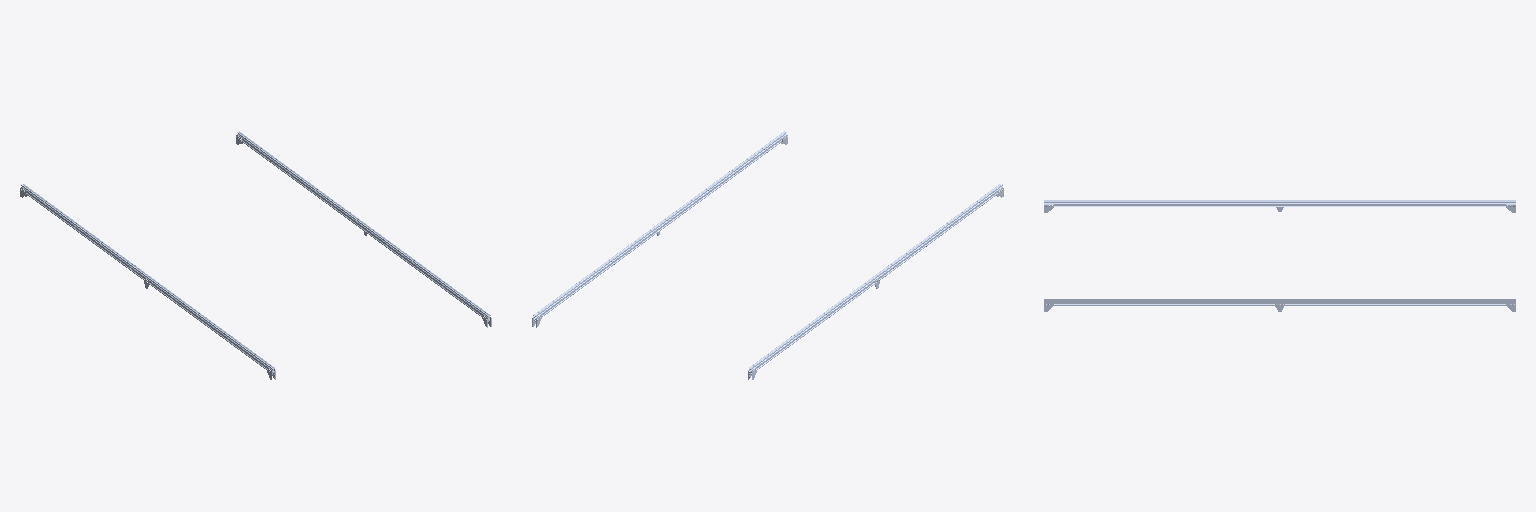
--- Facts derived from the render (not from the file) ---
Views: 3 orthographic renders of the robot side by side, from view 1: azimuth 30°, elevation 25°; view 2: azimuth 150°, elevation 25°; view 3: azimuth 270°, elevation 25°.
Model my-robot with 1 links and 0 joints (none), rooted at x_axis_tracks, posed all joints at 0.
Visible links, largest first — view 1: x_axis_tracks; view 2: x_axis_tracks; view 3: x_axis_tracks.
Boxes of the visible links, bbox=[...] form: x_axis_tracks: bbox=[20, 131, 491, 379]; x_axis_tracks: bbox=[532, 131, 1003, 379]; x_axis_tracks: bbox=[1044, 200, 1515, 311].
Size in the robot's own frame: 1.52 by 3 by 0.0795 metres.
Meshes: 5 distinct files referenced, 74 mesh visuals loaded (5 binary STL).

The robot description file, URDF, robot "my-robot":
<?xml version="1.0" ?>
<!-- Generated using onshape-to-robot -->
<!-- Onshape https://cad.onshape.com/documents/30d6379e78de76482470e7ee/w/e7b346f4bf0df2c360371a5c/e/263883c8752f9c1b548bfc82 -->
<robot name="my-robot">
  <!-- Link x_axis_tracks -->
  <link name="x_axis_tracks">
    <inertial>
      <origin xyz="0 0 0" rpy="0 0 0"/>
      <mass value="1e-09"/>
      <inertia ixx="1e-09" ixy="0" ixz="0" iyy="1e-09" iyz="0" izz="1e-09"/>
    </inertial>
    <!-- Part v_slot_20x40x1500_linear_rail -->
    <visual>
      <origin xyz="1.67553 -2.50292 1.41602" rpy="0 -0 0"/>
      <geometry>
        <mesh filename="package://meshes/v_slot_20x40x1500_linear_rail.stl"/>
      </geometry>
      <material name="v_slot_20x40x1500_linear_rail_material">
        <color rgba="0.866667 0.909804 1 1"/>
      </material>
    </visual>
    <collision>
      <origin xyz="1.67553 -2.50292 1.41602" rpy="0 -0 0"/>
      <geometry>
        <mesh filename="package://meshes/v_slot_20x40x1500_linear_rail.stl"/>
      </geometry>
    </collision>
    <!-- Part v_slot_20x40x1500_linear_rail_2 -->
    <visual>
      <origin xyz="0.190533 -1.00292 1.41602" rpy="0 -0 0"/>
      <geometry>
        <mesh filename="package://meshes/v_slot_20x40x1500_linear_rail.stl"/>
      </geometry>
      <material name="v_slot_20x40x1500_linear_rail_2_material">
        <color rgba="0.866667 0.909804 1 1"/>
      </material>
    </visual>
    <collision>
      <origin xyz="0.190533 -1.00292 1.41602" rpy="0 -0 0"/>
      <geometry>
        <mesh filename="package://meshes/v_slot_20x40x1500_linear_rail.stl"/>
      </geometry>
    </collision>
    <!-- Part v_slot_20x40x1500_linear_rail_3 -->
    <visual>
      <origin xyz="0.190533 -2.50292 1.41602" rpy="0 -0 0"/>
      <geometry>
        <mesh filename="package://meshes/v_slot_20x40x1500_linear_rail.stl"/>
      </geometry>
      <material name="v_slot_20x40x1500_linear_rail_3_material">
        <color rgba="0.866667 0.909804 1 1"/>
      </material>
    </visual>
    <collision>
      <origin xyz="0.190533 -2.50292 1.41602" rpy="0 -0 0"/>
      <geometry>
        <mesh filename="package://meshes/v_slot_20x40x1500_linear_rail.stl"/>
      </geometry>
    </collision>
    <!-- Part v_slot_20x40x1500_linear_rail_4 -->
    <visual>
      <origin xyz="1.67553 -1.00292 1.41602" rpy="0 -0 0"/>
      <geometry>
        <mesh filename="package://meshes/v_slot_20x40x1500_linear_rail.stl"/>
      </geometry>
      <material name="v_slot_20x40x1500_linear_rail_4_material">
        <color rgba="0.866667 0.909804 1 1"/>
      </material>
    </visual>
    <collision>
      <origin xyz="1.67553 -1.00292 1.41602" rpy="0 -0 0"/>
      <geometry>
        <mesh filename="package://meshes/v_slot_20x40x1500_linear_rail.stl"/>
      </geometry>
    </collision>
    <!-- Part joining_plate_t -->
    <visual>
      <origin xyz="1.68953 -2.50352 1.40652" rpy="-1.5708 -1.04744e-14 1.5708"/>
      <geometry>
        <mesh filename="package://meshes/joining_plate_t.stl"/>
      </geometry>
      <material name="joining_plate_t_material">
        <color rgba="0.866667 0.909804 1 1"/>
      </material>
    </visual>
    <collision>
      <origin xyz="1.68953 -2.50352 1.40652" rpy="-1.5708 -1.04744e-14 1.5708"/>
      <geometry>
        <mesh filename="package://meshes/joining_plate_t.stl"/>
      </geometry>
    </collision>
    <!-- Part joining_plate_t_2 -->
    <visual>
      <origin xyz="0.176533 -2.50295 1.40652" rpy="-1.5708 3.95846e-15 -1.5708"/>
      <geometry>
        <mesh filename="package://meshes/joining_plate_t.stl"/>
      </geometry>
      <material name="joining_plate_t_2_material">
        <color rgba="0.866667 0.909804 1 1"/>
      </material>
    </visual>
    <collision>
      <origin xyz="0.176533 -2.50295 1.40652" rpy="-1.5708 3.95846e-15 -1.5708"/>
      <geometry>
        <mesh filename="package://meshes/joining_plate_t.stl"/>
      </geometry>
    </collision>
    <!-- Part joining_plate_90_degree -->
    <visual>
      <origin xyz="0.180533 -1.01292 1.40652" rpy="-1.5708 -1.04744e-14 1.5708"/>
      <geometry>
        <mesh filename="package://meshes/joining_plate_90_degree.stl"/>
      </geometry>
      <material name="joining_plate_90_degree_material">
        <color rgba="0.866667 0.909804 1 1"/>
      </material>
    </visual>
    <collision>
      <origin xyz="0.180533 -1.01292 1.40652" rpy="-1.5708 -1.04744e-14 1.5708"/>
      <geometry>
        <mesh filename="package://meshes/joining_plate_90_degree.stl"/>
      </geometry>
    </collision>
    <!-- Part joining_plate_90_degree_2 -->
    <visual>
      <origin xyz="0.176533 -3.99292 1.40652" rpy="-1.5708 -1.04744e-14 -1.5708"/>
      <geometry>
        <mesh filename="package://meshes/joining_plate_90_degree.stl"/>
      </geometry>
      <material name="joining_plate_90_degree_2_material">
        <color rgba="0.866667 0.909804 1 1"/>
      </material>
    </visual>
    <collision>
      <origin xyz="0.176533 -3.99292 1.40652" rpy="-1.5708 -1.04744e-14 -1.5708"/>
      <geometry>
        <mesh filename="package://meshes/joining_plate_90_degree.stl"/>
      </geometry>
    </collision>
    <!-- Part joining_plate_90_degree_3 -->
    <visual>
      <origin xyz="1.66153 -3.99292 1.40652" rpy="-1.5708 -1.04744e-14 -1.5708"/>
      <geometry>
        <mesh filename="package://meshes/joining_plate_90_degree.stl"/>
      </geometry>
      <material name="joining_plate_90_degree_3_material">
        <color rgba="0.866667 0.909804 1 1"/>
      </material>
    </visual>
    <collision>
      <origin xyz="1.66153 -3.99292 1.40652" rpy="-1.5708 -1.04744e-14 -1.5708"/>
      <geometry>
        <mesh filename="package://meshes/joining_plate_90_degree.stl"/>
      </geometry>
    </collision>
    <!-- Part joining_plate_90_degree_4 -->
    <visual>
      <origin xyz="1.68953 -1.01292 1.40652" rpy="-1.5708 -1.04744e-14 1.5708"/>
      <geometry>
        <mesh filename="package://meshes/joining_plate_90_degree.stl"/>
      </geometry>
      <material name="joining_plate_90_degree_4_material">
        <color rgba="0.866667 0.909804 1 1"/>
      </material>
    </visual>
    <collision>
      <origin xyz="1.68953 -1.01292 1.40652" rpy="-1.5708 -1.04744e-14 1.5708"/>
      <geometry>
        <mesh filename="package://meshes/joining_plate_90_degree.stl"/>
      </geometry>
    </collision>
    <!-- Part joining_plate_90_degree_5 -->
    <visual>
      <origin xyz="1.66553 -1.01292 1.40652" rpy="-1.5708 -1.04744e-14 1.5708"/>
      <geometry>
        <mesh filename="package://meshes/joining_plate_90_degree.stl"/>
      </geometry>
      <material name="joining_plate_90_degree_5_material">
        <color rgba="0.866667 0.909804 1 1"/>
      </material>
    </visual>
    <collision>
      <origin xyz="1.66553 -1.01292 1.40652" rpy="-1.5708 -1.04744e-14 1.5708"/>
      <geometry>
        <mesh filename="package://meshes/joining_plate_90_degree.stl"/>
      </geometry>
    </collision>
    <!-- Part joining_plate_90_degree_6 -->
    <visual>
      <origin xyz="0.200533 -3.99292 1.40652" rpy="-1.5708 -1.04744e-14 -1.5708"/>
      <geometry>
        <mesh filename="package://meshes/joining_plate_90_degree.stl"/>
      </geometry>
      <material name="joining_plate_90_degree_6_material">
        <color rgba="0.866667 0.909804 1 1"/>
      </material>
    </visual>
    <collision>
      <origin xyz="0.200533 -3.99292 1.40652" rpy="-1.5708 -1.04744e-14 -1.5708"/>
      <geometry>
        <mesh filename="package://meshes/joining_plate_90_degree.stl"/>
      </geometry>
    </collision>
    <!-- Part joining_plate_90_degree_7 -->
    <visual>
      <origin xyz="0.204533 -1.01292 1.40652" rpy="-1.5708 -1.04744e-14 1.5708"/>
      <geometry>
        <mesh filename="package://meshes/joining_plate_90_degree.stl"/>
      </geometry>
      <material name="joining_plate_90_degree_7_material">
        <color rgba="0.866667 0.909804 1 1"/>
      </material>
    </visual>
    <collision>
      <origin xyz="0.204533 -1.01292 1.40652" rpy="-1.5708 -1.04744e-14 1.5708"/>
      <geometry>
        <mesh filename="package://meshes/joining_plate_90_degree.stl"/>
      </geometry>
    </collision>
    <!-- Part joining_plate_90_degree_8 -->
    <visual>
      <origin xyz="1.68553 -3.99292 1.40652" rpy="-1.5708 -1.04744e-14 -1.5708"/>
      <geometry>
        <mesh filename="package://meshes/joining_plate_90_degree.stl"/>
      </geometry>
      <material name="joining_plate_90_degree_8_material">
        <color rgba="0.866667 0.909804 1 1"/>
      </material>
    </visual>
    <collision>
      <origin xyz="1.68553 -3.99292 1.40652" rpy="-1.5708 -1.04744e-14 -1.5708"/>
      <geometry>
        <mesh filename="package://meshes/joining_plate_90_degree.stl"/>
      </geometry>
    </collision>
    <!-- Part m5_tee_nut -->
    <visual>
      <origin xyz="1.68023 -2.50352 1.40652" rpy="-1.5708 1.5708 0"/>
      <geometry>
        <mesh filename="package://meshes/m5_tee_nut.stl"/>
      </geometry>
      <material name="m5_tee_nut_material">
        <color rgba="0.792157 0.819608 0.933333 1"/>
      </material>
    </visual>
    <collision>
      <origin xyz="1.68023 -2.50352 1.40652" rpy="-1.5708 1.5708 0"/>
      <geometry>
        <mesh filename="package://meshes/m5_tee_nut.stl"/>
      </geometry>
    </collision>
    <!-- Part m5_x_10mm_screw -->
    <visual>
      <origin xyz="1.68953 -2.50352 1.40652" rpy="-1.5708 1.5708 0"/>
      <geometry>
        <mesh filename="package://meshes/m5_x_10mm_screw.stl"/>
      </geometry>
      <material name="m5_x_10mm_screw_material">
        <color rgba="0.945098 0.94902 0.952941 1"/>
      </material>
    </visual>
    <collision>
      <origin xyz="1.68953 -2.50352 1.40652" rpy="-1.5708 1.5708 0"/>
      <geometry>
        <mesh filename="package://meshes/m5_x_10mm_screw.stl"/>
      </geometry>
    </collision>
    <!-- Part m5_tee_nut_2 -->
    <visual>
      <origin xyz="1.68023 -2.48352 1.40652" rpy="-1.5708 1.5708 0"/>
      <geometry>
        <mesh filename="package://meshes/m5_tee_nut.stl"/>
      </geometry>
      <material name="m5_tee_nut_2_material">
        <color rgba="0.792157 0.819608 0.933333 1"/>
      </material>
    </visual>
    <collision>
      <origin xyz="1.68023 -2.48352 1.40652" rpy="-1.5708 1.5708 0"/>
      <geometry>
        <mesh filename="package://meshes/m5_tee_nut.stl"/>
      </geometry>
    </collision>
    <!-- Part m5_x_10mm_screw_2 -->
    <visual>
      <origin xyz="1.68953 -2.48352 1.40652" rpy="-1.5708 1.5708 0"/>
      <geometry>
        <mesh filename="package://meshes/m5_x_10mm_screw.stl"/>
      </geometry>
      <material name="m5_x_10mm_screw_2_material">
        <color rgba="0.945098 0.94902 0.952941 1"/>
      </material>
    </visual>
    <collision>
      <origin xyz="1.68953 -2.48352 1.40652" rpy="-1.5708 1.5708 0"/>
      <geometry>
        <mesh filename="package://meshes/m5_x_10mm_screw.stl"/>
      </geometry>
    </collision>
    <!-- Part m5_tee_nut_3 -->
    <visual>
      <origin xyz="1.68023 -2.52352 1.40652" rpy="-1.5708 1.5708 0"/>
      <geometry>
        <mesh filename="package://meshes/m5_tee_nut.stl"/>
      </geometry>
      <material name="m5_tee_nut_3_material">
        <color rgba="0.792157 0.819608 0.933333 1"/>
      </material>
    </visual>
    <collision>
      <origin xyz="1.68023 -2.52352 1.40652" rpy="-1.5708 1.5708 0"/>
      <geometry>
        <mesh filename="package://meshes/m5_tee_nut.stl"/>
      </geometry>
    </collision>
    <!-- Part m5_x_10mm_screw_3 -->
    <visual>
      <origin xyz="1.68953 -2.52352 1.40652" rpy="-1.5708 1.5708 0"/>
      <geometry>
        <mesh filename="package://meshes/m5_x_10mm_screw.stl"/>
      </geometry>
      <material name="m5_x_10mm_screw_3_material">
        <color rgba="0.945098 0.94902 0.952941 1"/>
      </material>
    </visual>
    <collision>
      <origin xyz="1.68953 -2.52352 1.40652" rpy="-1.5708 1.5708 0"/>
      <geometry>
        <mesh filename="package://meshes/m5_x_10mm_screw.stl"/>
      </geometry>
    </collision>
    <!-- Part m5_tee_nut_4 -->
    <visual>
      <origin xyz="0.185833 -2.50295 1.40652" rpy="1.5708 1.5708 0"/>
      <geometry>
        <mesh filename="package://meshes/m5_tee_nut.stl"/>
      </geometry>
      <material name="m5_tee_nut_4_material">
        <color rgba="0.792157 0.819608 0.933333 1"/>
      </material>
    </visual>
    <collision>
      <origin xyz="0.185833 -2.50295 1.40652" rpy="1.5708 1.5708 0"/>
      <geometry>
        <mesh filename="package://meshes/m5_tee_nut.stl"/>
      </geometry>
    </collision>
    <!-- Part m5_x_10mm_screw_4 -->
    <visual>
      <origin xyz="0.176533 -2.50295 1.40652" rpy="1.5708 1.5708 0"/>
      <geometry>
        <mesh filename="package://meshes/m5_x_10mm_screw.stl"/>
      </geometry>
      <material name="m5_x_10mm_screw_4_material">
        <color rgba="0.945098 0.94902 0.952941 1"/>
      </material>
    </visual>
    <collision>
      <origin xyz="0.176533 -2.50295 1.40652" rpy="1.5708 1.5708 0"/>
      <geometry>
        <mesh filename="package://meshes/m5_x_10mm_screw.stl"/>
      </geometry>
    </collision>
    <!-- Part m5_tee_nut_5 -->
    <visual>
      <origin xyz="0.185833 -2.52295 1.40652" rpy="1.5708 1.5708 0"/>
      <geometry>
        <mesh filename="package://meshes/m5_tee_nut.stl"/>
      </geometry>
      <material name="m5_tee_nut_5_material">
        <color rgba="0.792157 0.819608 0.933333 1"/>
      </material>
    </visual>
    <collision>
      <origin xyz="0.185833 -2.52295 1.40652" rpy="1.5708 1.5708 0"/>
      <geometry>
        <mesh filename="package://meshes/m5_tee_nut.stl"/>
      </geometry>
    </collision>
    <!-- Part m5_x_10mm_screw_5 -->
    <visual>
      <origin xyz="0.176533 -2.52295 1.40652" rpy="1.5708 1.5708 0"/>
      <geometry>
        <mesh filename="package://meshes/m5_x_10mm_screw.stl"/>
      </geometry>
      <material name="m5_x_10mm_screw_5_material">
        <color rgba="0.945098 0.94902 0.952941 1"/>
      </material>
    </visual>
    <collision>
      <origin xyz="0.176533 -2.52295 1.40652" rpy="1.5708 1.5708 0"/>
      <geometry>
        <mesh filename="package://meshes/m5_x_10mm_screw.stl"/>
      </geometry>
    </collision>
    <!-- Part m5_tee_nut_6 -->
    <visual>
      <origin xyz="0.185833 -2.48295 1.40652" rpy="1.5708 1.5708 0"/>
      <geometry>
        <mesh filename="package://meshes/m5_tee_nut.stl"/>
      </geometry>
      <material name="m5_tee_nut_6_material">
        <color rgba="0.792157 0.819608 0.933333 1"/>
      </material>
    </visual>
    <collision>
      <origin xyz="0.185833 -2.48295 1.40652" rpy="1.5708 1.5708 0"/>
      <geometry>
        <mesh filename="package://meshes/m5_tee_nut.stl"/>
      </geometry>
    </collision>
    <!-- Part m5_x_10mm_screw_6 -->
    <visual>
      <origin xyz="0.176533 -2.48295 1.40652" rpy="1.5708 1.5708 0"/>
      <geometry>
        <mesh filename="package://meshes/m5_x_10mm_screw.stl"/>
      </geometry>
      <material name="m5_x_10mm_screw_6_material">
        <color rgba="0.945098 0.94902 0.952941 1"/>
      </material>
    </visual>
    <collision>
      <origin xyz="0.176533 -2.48295 1.40652" rpy="1.5708 1.5708 0"/>
      <geometry>
        <mesh filename="package://meshes/m5_x_10mm_screw.stl"/>
      </geometry>
    </collision>
    <!-- Part m5_tee_nut_7 -->
    <visual>
      <origin xyz="0.185833 -1.03292 1.40652" rpy="3.14159 -5.12212e-15 1.5708"/>
      <geometry>
        <mesh filename="package://meshes/m5_tee_nut.stl"/>
      </geometry>
      <material name="m5_tee_nut_7_material">
        <color rgba="0.792157 0.819608 0.933333 1"/>
      </material>
    </visual>
    <collision>
      <origin xyz="0.185833 -1.03292 1.40652" rpy="3.14159 -5.12212e-15 1.5708"/>
      <geometry>
        <mesh filename="package://meshes/m5_tee_nut.stl"/>
      </geometry>
    </collision>
    <!-- Part m5_x_10mm_screw_7 -->
    <visual>
      <origin xyz="0.176533 -1.03292 1.40652" rpy="3.14159 -4.67109e-15 1.5708"/>
      <geometry>
        <mesh filename="package://meshes/m5_x_10mm_screw.stl"/>
      </geometry>
      <material name="m5_x_10mm_screw_7_material">
        <color rgba="0.945098 0.94902 0.952941 1"/>
      </material>
    </visual>
    <collision>
      <origin xyz="0.176533 -1.03292 1.40652" rpy="3.14159 -4.67109e-15 1.5708"/>
      <geometry>
        <mesh filename="package://meshes/m5_x_10mm_screw.stl"/>
      </geometry>
    </collision>
    <!-- Part m5_tee_nut_8 -->
    <visual>
      <origin xyz="0.185833 -1.05292 1.40652" rpy="3.14159 -5.12212e-15 1.5708"/>
      <geometry>
        <mesh filename="package://meshes/m5_tee_nut.stl"/>
      </geometry>
      <material name="m5_tee_nut_8_material">
        <color rgba="0.792157 0.819608 0.933333 1"/>
      </material>
    </visual>
    <collision>
      <origin xyz="0.185833 -1.05292 1.40652" rpy="3.14159 -5.12212e-15 1.5708"/>
      <geometry>
        <mesh filename="package://meshes/m5_tee_nut.stl"/>
      </geometry>
    </collision>
    <!-- Part m5_x_10mm_screw_8 -->
    <visual>
      <origin xyz="0.176533 -1.05292 1.40652" rpy="3.14159 -4.67109e-15 1.5708"/>
      <geometry>
        <mesh filename="package://meshes/m5_x_10mm_screw.stl"/>
      </geometry>
      <material name="m5_x_10mm_screw_8_material">
        <color rgba="0.945098 0.94902 0.952941 1"/>
      </material>
    </visual>
    <collision>
      <origin xyz="0.176533 -1.05292 1.40652" rpy="3.14159 -4.67109e-15 1.5708"/>
      <geometry>
        <mesh filename="package://meshes/m5_x_10mm_screw.stl"/>
      </geometry>
    </collision>
    <!-- Part m5_tee_nut_9 -->
    <visual>
      <origin xyz="0.185833 -1.01292 1.40652" rpy="3.14159 -5.12212e-15 1.5708"/>
      <geometry>
        <mesh filename="package://meshes/m5_tee_nut.stl"/>
      </geometry>
      <material name="m5_tee_nut_9_material">
        <color rgba="0.792157 0.819608 0.933333 1"/>
      </material>
    </visual>
    <collision>
      <origin xyz="0.185833 -1.01292 1.40652" rpy="3.14159 -5.12212e-15 1.5708"/>
      <geometry>
        <mesh filename="package://meshes/m5_tee_nut.stl"/>
      </geometry>
    </collision>
    <!-- Part m5_x_10mm_screw_9 -->
    <visual>
      <origin xyz="0.176533 -1.01292 1.40652" rpy="3.14159 -4.67109e-15 1.5708"/>
      <geometry>
        <mesh filename="package://meshes/m5_x_10mm_screw.stl"/>
      </geometry>
      <material name="m5_x_10mm_screw_9_material">
        <color rgba="0.945098 0.94902 0.952941 1"/>
      </material>
    </visual>
    <collision>
      <origin xyz="0.176533 -1.01292 1.40652" rpy="3.14159 -4.67109e-15 1.5708"/>
      <geometry>
        <mesh filename="package://meshes/m5_x_10mm_screw.stl"/>
      </geometry>
    </collision>
    <!-- Part m5_tee_nut_10 -->
    <visual>
      <origin xyz="0.185833 -3.99292 1.40652" rpy="3.14159 -5.12212e-15 1.5708"/>
      <geometry>
        <mesh filename="package://meshes/m5_tee_nut.stl"/>
      </geometry>
      <material name="m5_tee_nut_10_material">
        <color rgba="0.792157 0.819608 0.933333 1"/>
      </material>
    </visual>
    <collision>
      <origin xyz="0.185833 -3.99292 1.40652" rpy="3.14159 -5.12212e-15 1.5708"/>
      <geometry>
        <mesh filename="package://meshes/m5_tee_nut.stl"/>
      </geometry>
    </collision>
    <!-- Part m5_x_10mm_screw_10 -->
    <visual>
      <origin xyz="0.176533 -3.99292 1.40652" rpy="3.14159 -4.67109e-15 1.5708"/>
      <geometry>
        <mesh filename="package://meshes/m5_x_10mm_screw.stl"/>
      </geometry>
      <material name="m5_x_10mm_screw_10_material">
        <color rgba="0.945098 0.94902 0.952941 1"/>
      </material>
    </visual>
    <collision>
      <origin xyz="0.176533 -3.99292 1.40652" rpy="3.14159 -4.67109e-15 1.5708"/>
      <geometry>
        <mesh filename="package://meshes/m5_x_10mm_screw.stl"/>
      </geometry>
    </collision>
    <!-- Part m5_tee_nut_11 -->
    <visual>
      <origin xyz="0.185833 -3.95292 1.40652" rpy="3.14159 -5.12212e-15 1.5708"/>
      <geometry>
        <mesh filename="package://meshes/m5_tee_nut.stl"/>
      </geometry>
      <material name="m5_tee_nut_11_material">
        <color rgba="0.792157 0.819608 0.933333 1"/>
      </material>
    </visual>
    <collision>
      <origin xyz="0.185833 -3.95292 1.40652" rpy="3.14159 -5.12212e-15 1.5708"/>
      <geometry>
        <mesh filename="package://meshes/m5_tee_nut.stl"/>
      </geometry>
    </collision>
    <!-- Part m5_x_10mm_screw_11 -->
    <visual>
      <origin xyz="0.176533 -3.95292 1.40652" rpy="3.14159 -4.67109e-15 1.5708"/>
      <geometry>
        <mesh filename="package://meshes/m5_x_10mm_screw.stl"/>
      </geometry>
      <material name="m5_x_10mm_screw_11_material">
        <color rgba="0.945098 0.94902 0.952941 1"/>
      </material>
    </visual>
    <collision>
      <origin xyz="0.176533 -3.95292 1.40652" rpy="3.14159 -4.67109e-15 1.5708"/>
      <geometry>
        <mesh filename="package://meshes/m5_x_10mm_screw.stl"/>
      </geometry>
    </collision>
    <!-- Part m5_tee_nut_12 -->
    <visual>
      <origin xyz="0.185833 -3.97292 1.40652" rpy="3.14159 -5.12212e-15 1.5708"/>
      <geometry>
        <mesh filename="package://meshes/m5_tee_nut.stl"/>
      </geometry>
      <material name="m5_tee_nut_12_material">
        <color rgba="0.792157 0.819608 0.933333 1"/>
      </material>
    </visual>
    <collision>
      <origin xyz="0.185833 -3.97292 1.40652" rpy="3.14159 -5.12212e-15 1.5708"/>
      <geometry>
        <mesh filename="package://meshes/m5_tee_nut.stl"/>
      </geometry>
    </collision>
    <!-- Part m5_x_10mm_screw_12 -->
    <visual>
      <origin xyz="0.176533 -3.97292 1.40652" rpy="3.14159 -4.67109e-15 1.5708"/>
      <geometry>
        <mesh filename="package://meshes/m5_x_10mm_screw.stl"/>
      </geometry>
      <material name="m5_x_10mm_screw_12_material">
        <color rgba="0.945098 0.94902 0.952941 1"/>
      </material>
    </visual>
    <collision>
      <origin xyz="0.176533 -3.97292 1.40652" rpy="3.14159 -4.67109e-15 1.5708"/>
      <geometry>
        <mesh filename="package://meshes/m5_x_10mm_screw.stl"/>
      </geometry>
    </collision>
    <!-- Part m5_tee_nut_13 -->
    <visual>
      <origin xyz="1.67083 -3.99292 1.40652" rpy="3.14159 -5.12212e-15 1.5708"/>
      <geometry>
        <mesh filename="package://meshes/m5_tee_nut.stl"/>
      </geometry>
      <material name="m5_tee_nut_13_material">
        <color rgba="0.792157 0.819608 0.933333 1"/>
      </material>
    </visual>
    <collision>
      <origin xyz="1.67083 -3.99292 1.40652" rpy="3.14159 -5.12212e-15 1.5708"/>
      <geometry>
        <mesh filename="package://meshes/m5_tee_nut.stl"/>
      </geometry>
    </collision>
    <!-- Part m5_x_10mm_screw_13 -->
    <visual>
      <origin xyz="1.66153 -3.99292 1.40652" rpy="3.14159 -4.67109e-15 1.5708"/>
      <geometry>
        <mesh filename="package://meshes/m5_x_10mm_screw.stl"/>
      </geometry>
      <material name="m5_x_10mm_screw_13_material">
        <color rgba="0.945098 0.94902 0.952941 1"/>
      </material>
    </visual>
    <collision>
      <origin xyz="1.66153 -3.99292 1.40652" rpy="3.14159 -4.67109e-15 1.5708"/>
      <geometry>
        <mesh filename="package://meshes/m5_x_10mm_screw.stl"/>
      </geometry>
    </collision>
    <!-- Part m5_tee_nut_14 -->
    <visual>
      <origin xyz="1.67083 -3.95292 1.40652" rpy="3.14159 -5.12212e-15 1.5708"/>
      <geometry>
        <mesh filename="package://meshes/m5_tee_nut.stl"/>
      </geometry>
      <material name="m5_tee_nut_14_material">
        <color rgba="0.792157 0.819608 0.933333 1"/>
      </material>
    </visual>
    <collision>
      <origin xyz="1.67083 -3.95292 1.40652" rpy="3.14159 -5.12212e-15 1.5708"/>
      <geometry>
        <mesh filename="package://meshes/m5_tee_nut.stl"/>
      </geometry>
    </collision>
    <!-- Part m5_x_10mm_screw_14 -->
    <visual>
      <origin xyz="1.66153 -3.95292 1.40652" rpy="3.14159 -4.67109e-15 1.5708"/>
      <geometry>
        <mesh filename="package://meshes/m5_x_10mm_screw.stl"/>
      </geometry>
      <material name="m5_x_10mm_screw_14_material">
        <color rgba="0.945098 0.94902 0.952941 1"/>
      </material>
    </visual>
    <collision>
      <origin xyz="1.66153 -3.95292 1.40652" rpy="3.14159 -4.67109e-15 1.5708"/>
      <geometry>
        <mesh filename="package://meshes/m5_x_10mm_screw.stl"/>
      </geometry>
    </collision>
    <!-- Part m5_tee_nut_15 -->
    <visual>
      <origin xyz="1.67083 -3.97292 1.40652" rpy="3.14159 -5.12212e-15 1.5708"/>
      <geometry>
        <mesh filename="package://meshes/m5_tee_nut.stl"/>
      </geometry>
      <material name="m5_tee_nut_15_material">
        <color rgba="0.792157 0.819608 0.933333 1"/>
      </material>
    </visual>
    <collision>
      <origin xyz="1.67083 -3.97292 1.40652" rpy="3.14159 -5.12212e-15 1.5708"/>
      <geometry>
        <mesh filename="package://meshes/m5_tee_nut.stl"/>
      </geometry>
    </collision>
    <!-- Part m5_x_10mm_screw_15 -->
    <visual>
      <origin xyz="1.66153 -3.97292 1.40652" rpy="3.14159 -4.67109e-15 1.5708"/>
      <geometry>
        <mesh filename="package://meshes/m5_x_10mm_screw.stl"/>
      </geometry>
      <material name="m5_x_10mm_screw_15_material">
        <color rgba="0.945098 0.94902 0.952941 1"/>
      </material>
    </visual>
    <collision>
      <origin xyz="1.66153 -3.97292 1.40652" rpy="3.14159 -4.67109e-15 1.5708"/>
      <geometry>
        <mesh filename="package://meshes/m5_x_10mm_screw.stl"/>
      </geometry>
    </collision>
    <!-- Part m5_tee_nut_16 -->
    <visual>
      <origin xyz="1.68023 -1.01292 1.40652" rpy="3.14159 -5.12212e-15 -1.5708"/>
      <geometry>
        <mesh filename="package://meshes/m5_tee_nut.stl"/>
      </geometry>
      <material name="m5_tee_nut_16_material">
        <color rgba="0.792157 0.819608 0.933333 1"/>
      </material>
    </visual>
    <collision>
      <origin xyz="1.68023 -1.01292 1.40652" rpy="3.14159 -5.12212e-15 -1.5708"/>
      <geometry>
        <mesh filename="package://meshes/m5_tee_nut.stl"/>
      </geometry>
    </collision>
    <!-- Part m5_x_10mm_screw_16 -->
    <visual>
      <origin xyz="1.68953 -1.01292 1.40652" rpy="3.14159 -4.67109e-15 -1.5708"/>
      <geometry>
        <mesh filename="package://meshes/m5_x_10mm_screw.stl"/>
      </geometry>
      <material name="m5_x_10mm_screw_16_material">
        <color rgba="0.945098 0.94902 0.952941 1"/>
      </material>
    </visual>
    <collision>
      <origin xyz="1.68953 -1.01292 1.40652" rpy="3.14159 -4.67109e-15 -1.5708"/>
      <geometry>
        <mesh filename="package://meshes/m5_x_10mm_screw.stl"/>
      </geometry>
    </collision>
    <!-- Part m5_tee_nut_17 -->
    <visual>
      <origin xyz="1.68023 -1.05292 1.40652" rpy="3.14159 -5.12212e-15 -1.5708"/>
      <geometry>
        <mesh filename="package://meshes/m5_tee_nut.stl"/>
      </geometry>
      <material name="m5_tee_nut_17_material">
        <color rgba="0.792157 0.819608 0.933333 1"/>
      </material>
    </visual>
    <collision>
      <origin xyz="1.68023 -1.05292 1.40652" rpy="3.14159 -5.12212e-15 -1.5708"/>
      <geometry>
        <mesh filename="package://meshes/m5_tee_nut.stl"/>
      </geometry>
    </collision>
    <!-- Part m5_x_10mm_screw_17 -->
    <visual>
      <origin xyz="1.68953 -1.05292 1.40652" rpy="3.14159 -4.67109e-15 -1.5708"/>
      <geometry>
        <mesh filename="package://meshes/m5_x_10mm_screw.stl"/>
      </geometry>
      <material name="m5_x_10mm_screw_17_material">
        <color rgba="0.945098 0.94902 0.952941 1"/>
      </material>
    </visual>
    <collision>
      <origin xyz="1.68953 -1.05292 1.40652" rpy="3.14159 -4.67109e-15 -1.5708"/>
      <geometry>
        <mesh filename="package://meshes/m5_x_10mm_screw.stl"/>
      </geometry>
    </collision>
    <!-- Part m5_tee_nut_18 -->
    <visual>
      <origin xyz="1.68023 -1.03292 1.40652" rpy="3.14159 -5.12212e-15 -1.5708"/>
      <geometry>
        <mesh filename="package://meshes/m5_tee_nut.stl"/>
      </geometry>
      <material name="m5_tee_nut_18_material">
        <color rgba="0.792157 0.819608 0.933333 1"/>
      </material>
    </visual>
    <collision>
      <origin xyz="1.68023 -1.03292 1.40652" rpy="3.14159 -5.12212e-15 -1.5708"/>
      <geometry>
        <mesh filename="package://meshes/m5_tee_nut.stl"/>
      </geometry>
    </collision>
    <!-- Part m5_x_10mm_screw_18 -->
    <visual>
      <origin xyz="1.68953 -1.03292 1.40652" rpy="3.14159 -4.67109e-15 -1.5708"/>
      <geometry>
        <mesh filename="package://meshes/m5_x_10mm_screw.stl"/>
      </geometry>
      <material name="m5_x_10mm_screw_18_material">
        <color rgba="0.945098 0.94902 0.952941 1"/>
      </material>
    </visual>
    <collision>
      <origin xyz="1.68953 -1.03292 1.40652" rpy="3.14159 -4.67109e-15 -1.5708"/>
      <geometry>
        <mesh filename="package://meshes/m5_x_10mm_screw.stl"/>
      </geometry>
    </collision>
    <!-- Part m5_tee_nut_19 -->
    <visual>
      <origin xyz="1.67083 -1.03292 1.40652" rpy="3.14159 -5.12212e-15 1.5708"/>
      <geometry>
        <mesh filename="package://meshes/m5_tee_nut.stl"/>
      </geometry>
      <material name="m5_tee_nut_19_material">
        <color rgba="0.792157 0.819608 0.933333 1"/>
      </material>
    </visual>
    <collision>
      <origin xyz="1.67083 -1.03292 1.40652" rpy="3.14159 -5.12212e-15 1.5708"/>
      <geometry>
        <mesh filename="package://meshes/m5_tee_nut.stl"/>
      </geometry>
    </collision>
    <!-- Part m5_x_10mm_screw_19 -->
    <visual>
      <origin xyz="1.66153 -1.03292 1.40652" rpy="3.14159 -4.67109e-15 1.5708"/>
      <geometry>
        <mesh filename="package://meshes/m5_x_10mm_screw.stl"/>
      </geometry>
      <material name="m5_x_10mm_screw_19_material">
        <color rgba="0.945098 0.94902 0.952941 1"/>
      </material>
    </visual>
    <collision>
      <origin xyz="1.66153 -1.03292 1.40652" rpy="3.14159 -4.67109e-15 1.5708"/>
      <geometry>
        <mesh filename="package://meshes/m5_x_10mm_screw.stl"/>
      </geometry>
    </collision>
    <!-- Part m5_tee_nut_20 -->
    <visual>
      <origin xyz="1.67083 -1.05292 1.40652" rpy="3.14159 -5.12212e-15 1.5708"/>
      <geometry>
        <mesh filename="package://meshes/m5_tee_nut.stl"/>
      </geometry>
      <material name="m5_tee_nut_20_material">
        <color rgba="0.792157 0.819608 0.933333 1"/>
      </material>
    </visual>
    <collision>
      <origin xyz="1.67083 -1.05292 1.40652" rpy="3.14159 -5.12212e-15 1.5708"/>
      <geometry>
        <mesh filename="package://meshes/m5_tee_nut.stl"/>
      </geometry>
    </collision>
    <!-- Part m5_x_10mm_screw_20 -->
    <visual>
      <origin xyz="1.66153 -1.05292 1.40652" rpy="3.14159 -4.67109e-15 1.5708"/>
      <geometry>
        <mesh filename="package://meshes/m5_x_10mm_screw.stl"/>
      </geometry>
      <material name="m5_x_10mm_screw_20_material">
        <color rgba="0.945098 0.94902 0.952941 1"/>
      </material>
    </visual>
    <collision>
      <origin xyz="1.66153 -1.05292 1.40652" rpy="3.14159 -4.67109e-15 1.5708"/>
      <geometry>
        <mesh filename="package://meshes/m5_x_10mm_screw.stl"/>
      </geometry>
    </collision>
    <!-- Part m5_tee_nut_21 -->
    <visual>
      <origin xyz="1.67083 -1.01292 1.40652" rpy="3.14159 -5.12212e-15 1.5708"/>
      <geometry>
        <mesh filename="package://meshes/m5_tee_nut.stl"/>
      </geometry>
      <material name="m5_tee_nut_21_material">
        <color rgba="0.792157 0.819608 0.933333 1"/>
      </material>
    </visual>
    <collision>
      <origin xyz="1.67083 -1.01292 1.40652" rpy="3.14159 -5.12212e-15 1.5708"/>
      <geometry>
        <mesh filename="package://meshes/m5_tee_nut.stl"/>
      </geometry>
    </collision>
    <!-- Part m5_x_10mm_screw_21 -->
    <visual>
      <origin xyz="1.66153 -1.01292 1.40652" rpy="3.14159 -4.67109e-15 1.5708"/>
      <geometry>
        <mesh filename="package://meshes/m5_x_10mm_screw.stl"/>
      </geometry>
      <material name="m5_x_10mm_screw_21_material">
        <color rgba="0.945098 0.94902 0.952941 1"/>
      </material>
    </visual>
    <collision>
      <origin xyz="1.66153 -1.01292 1.40652" rpy="3.14159 -4.67109e-15 1.5708"/>
      <geometry>
        <mesh filename="package://meshes/m5_x_10mm_screw.stl"/>
      </geometry>
    </collision>
    <!-- Part m5_tee_nut_22 -->
    <visual>
      <origin xyz="0.195233 -3.97292 1.40652" rpy="3.14159 -5.12212e-15 -1.5708"/>
      <geometry>
        <mesh filename="package://meshes/m5_tee_nut.stl"/>
      </geometry>
      <material name="m5_tee_nut_22_material">
        <color rgba="0.792157 0.819608 0.933333 1"/>
      </material>
    </visual>
    <collision>
      <origin xyz="0.195233 -3.97292 1.40652" rpy="3.14159 -5.12212e-15 -1.5708"/>
      <geometry>
        <mesh filename="package://meshes/m5_tee_nut.stl"/>
      </geometry>
    </collision>
    <!-- Part m5_x_10mm_screw_22 -->
    <visual>
      <origin xyz="0.204533 -3.97292 1.40652" rpy="3.14159 -4.67109e-15 -1.5708"/>
      <geometry>
        <mesh filename="package://meshes/m5_x_10mm_screw.stl"/>
      </geometry>
      <material name="m5_x_10mm_screw_22_material">
        <color rgba="0.945098 0.94902 0.952941 1"/>
      </material>
    </visual>
    <collision>
      <origin xyz="0.204533 -3.97292 1.40652" rpy="3.14159 -4.67109e-15 -1.5708"/>
      <geometry>
        <mesh filename="package://meshes/m5_x_10mm_screw.stl"/>
      </geometry>
    </collision>
    <!-- Part m5_tee_nut_23 -->
    <visual>
      <origin xyz="0.195233 -3.95292 1.40652" rpy="3.14159 -5.12212e-15 -1.5708"/>
      <geometry>
        <mesh filename="package://meshes/m5_tee_nut.stl"/>
      </geometry>
      <material name="m5_tee_nut_23_material">
        <color rgba="0.792157 0.819608 0.933333 1"/>
      </material>
    </visual>
    <collision>
      <origin xyz="0.195233 -3.95292 1.40652" rpy="3.14159 -5.12212e-15 -1.5708"/>
      <geometry>
        <mesh filename="package://meshes/m5_tee_nut.stl"/>
      </geometry>
    </collision>
    <!-- Part m5_x_10mm_screw_23 -->
    <visual>
      <origin xyz="0.204533 -3.95292 1.40652" rpy="3.14159 -4.67109e-15 -1.5708"/>
      <geometry>
        <mesh filename="package://meshes/m5_x_10mm_screw.stl"/>
      </geometry>
      <material name="m5_x_10mm_screw_23_material">
        <color rgba="0.945098 0.94902 0.952941 1"/>
      </material>
    </visual>
    <collision>
      <origin xyz="0.204533 -3.95292 1.40652" rpy="3.14159 -4.67109e-15 -1.5708"/>
      <geometry>
        <mesh filename="package://meshes/m5_x_10mm_screw.stl"/>
      </geometry>
    </collision>
    <!-- Part m5_tee_nut_24 -->
    <visual>
      <origin xyz="0.195233 -3.99292 1.40652" rpy="3.14159 -5.12212e-15 -1.5708"/>
      <geometry>
        <mesh filename="package://meshes/m5_tee_nut.stl"/>
      </geometry>
      <material name="m5_tee_nut_24_material">
        <color rgba="0.792157 0.819608 0.933333 1"/>
      </material>
    </visual>
    <collision>
      <origin xyz="0.195233 -3.99292 1.40652" rpy="3.14159 -5.12212e-15 -1.5708"/>
      <geometry>
        <mesh filename="package://meshes/m5_tee_nut.stl"/>
      </geometry>
    </collision>
    <!-- Part m5_x_10mm_screw_24 -->
    <visual>
      <origin xyz="0.204533 -3.99292 1.40652" rpy="3.14159 -4.67109e-15 -1.5708"/>
      <geometry>
        <mesh filename="package://meshes/m5_x_10mm_screw.stl"/>
      </geometry>
      <material name="m5_x_10mm_screw_24_material">
        <color rgba="0.945098 0.94902 0.952941 1"/>
      </material>
    </visual>
    <collision>
      <origin xyz="0.204533 -3.99292 1.40652" rpy="3.14159 -4.67109e-15 -1.5708"/>
      <geometry>
        <mesh filename="package://meshes/m5_x_10mm_screw.stl"/>
      </geometry>
    </collision>
    <!-- Part m5_tee_nut_25 -->
    <visual>
      <origin xyz="0.195233 -1.01292 1.40652" rpy="3.14159 -5.12212e-15 -1.5708"/>
      <geometry>
        <mesh filename="package://meshes/m5_tee_nut.stl"/>
      </geometry>
      <material name="m5_tee_nut_25_material">
        <color rgba="0.792157 0.819608 0.933333 1"/>
      </material>
    </visual>
    <collision>
      <origin xyz="0.195233 -1.01292 1.40652" rpy="3.14159 -5.12212e-15 -1.5708"/>
      <geometry>
        <mesh filename="package://meshes/m5_tee_nut.stl"/>
      </geometry>
    </collision>
    <!-- Part m5_x_10mm_screw_25 -->
    <visual>
      <origin xyz="0.204533 -1.01292 1.40652" rpy="3.14159 -4.67109e-15 -1.5708"/>
      <geometry>
        <mesh filename="package://meshes/m5_x_10mm_screw.stl"/>
      </geometry>
      <material name="m5_x_10mm_screw_25_material">
        <color rgba="0.945098 0.94902 0.952941 1"/>
      </material>
    </visual>
    <collision>
      <origin xyz="0.204533 -1.01292 1.40652" rpy="3.14159 -4.67109e-15 -1.5708"/>
      <geometry>
        <mesh filename="package://meshes/m5_x_10mm_screw.stl"/>
      </geometry>
    </collision>
    <!-- Part m5_tee_nut_26 -->
    <visual>
      <origin xyz="0.195233 -1.05292 1.40652" rpy="3.14159 -5.12212e-15 -1.5708"/>
      <geometry>
        <mesh filename="package://meshes/m5_tee_nut.stl"/>
      </geometry>
      <material name="m5_tee_nut_26_material">
        <color rgba="0.792157 0.819608 0.933333 1"/>
      </material>
    </visual>
    <collision>
      <origin xyz="0.195233 -1.05292 1.40652" rpy="3.14159 -5.12212e-15 -1.5708"/>
      <geometry>
        <mesh filename="package://meshes/m5_tee_nut.stl"/>
      </geometry>
    </collision>
    <!-- Part m5_x_10mm_screw_26 -->
    <visual>
      <origin xyz="0.204533 -1.05292 1.40652" rpy="3.14159 -4.67109e-15 -1.5708"/>
      <geometry>
        <mesh filename="package://meshes/m5_x_10mm_screw.stl"/>
      </geometry>
      <material name="m5_x_10mm_screw_26_material">
        <color rgba="0.945098 0.94902 0.952941 1"/>
      </material>
    </visual>
    <collision>
      <origin xyz="0.204533 -1.05292 1.40652" rpy="3.14159 -4.67109e-15 -1.5708"/>
      <geometry>
        <mesh filename="package://meshes/m5_x_10mm_screw.stl"/>
      </geometry>
    </collision>
    <!-- Part m5_tee_nut_27 -->
    <visual>
      <origin xyz="0.195233 -1.03292 1.40652" rpy="3.14159 -5.12212e-15 -1.5708"/>
      <geometry>
        <mesh filename="package://meshes/m5_tee_nut.stl"/>
      </geometry>
      <material name="m5_tee_nut_27_material">
        <color rgba="0.792157 0.819608 0.933333 1"/>
      </material>
    </visual>
    <collision>
      <origin xyz="0.195233 -1.03292 1.40652" rpy="3.14159 -5.12212e-15 -1.5708"/>
      <geometry>
        <mesh filename="package://meshes/m5_tee_nut.stl"/>
      </geometry>
    </collision>
    <!-- Part m5_x_10mm_screw_27 -->
    <visual>
      <origin xyz="0.204533 -1.03292 1.40652" rpy="3.14159 -4.67109e-15 -1.5708"/>
      <geometry>
        <mesh filename="package://meshes/m5_x_10mm_screw.stl"/>
      </geometry>
      <material name="m5_x_10mm_screw_27_material">
        <color rgba="0.945098 0.94902 0.952941 1"/>
      </material>
    </visual>
    <collision>
      <origin xyz="0.204533 -1.03292 1.40652" rpy="3.14159 -4.67109e-15 -1.5708"/>
      <geometry>
        <mesh filename="package://meshes/m5_x_10mm_screw.stl"/>
      </geometry>
    </collision>
    <!-- Part m5_tee_nut_28 -->
    <visual>
      <origin xyz="1.68023 -3.97292 1.40652" rpy="3.14159 -5.12212e-15 -1.5708"/>
      <geometry>
        <mesh filename="package://meshes/m5_tee_nut.stl"/>
      </geometry>
      <material name="m5_tee_nut_28_material">
        <color rgba="0.792157 0.819608 0.933333 1"/>
      </material>
    </visual>
    <collision>
      <origin xyz="1.68023 -3.97292 1.40652" rpy="3.14159 -5.12212e-15 -1.5708"/>
      <geometry>
        <mesh filename="package://meshes/m5_tee_nut.stl"/>
      </geometry>
    </collision>
    <!-- Part m5_x_10mm_screw_28 -->
    <visual>
      <origin xyz="1.68953 -3.97292 1.40652" rpy="3.14159 -4.67109e-15 -1.5708"/>
      <geometry>
        <mesh filename="package://meshes/m5_x_10mm_screw.stl"/>
      </geometry>
      <material name="m5_x_10mm_screw_28_material">
        <color rgba="0.945098 0.94902 0.952941 1"/>
      </material>
    </visual>
    <collision>
      <origin xyz="1.68953 -3.97292 1.40652" rpy="3.14159 -4.67109e-15 -1.5708"/>
      <geometry>
        <mesh filename="package://meshes/m5_x_10mm_screw.stl"/>
      </geometry>
    </collision>
    <!-- Part m5_tee_nut_29 -->
    <visual>
      <origin xyz="1.68023 -3.95292 1.40652" rpy="3.14159 -5.12212e-15 -1.5708"/>
      <geometry>
        <mesh filename="package://meshes/m5_tee_nut.stl"/>
      </geometry>
      <material name="m5_tee_nut_29_material">
        <color rgba="0.792157 0.819608 0.933333 1"/>
      </material>
    </visual>
    <collision>
      <origin xyz="1.68023 -3.95292 1.40652" rpy="3.14159 -5.12212e-15 -1.5708"/>
      <geometry>
        <mesh filename="package://meshes/m5_tee_nut.stl"/>
      </geometry>
    </collision>
    <!-- Part m5_x_10mm_screw_29 -->
    <visual>
      <origin xyz="1.68953 -3.95292 1.40652" rpy="3.14159 -4.67109e-15 -1.5708"/>
      <geometry>
        <mesh filename="package://meshes/m5_x_10mm_screw.stl"/>
      </geometry>
      <material name="m5_x_10mm_screw_29_material">
        <color rgba="0.945098 0.94902 0.952941 1"/>
      </material>
    </visual>
    <collision>
      <origin xyz="1.68953 -3.95292 1.40652" rpy="3.14159 -4.67109e-15 -1.5708"/>
      <geometry>
        <mesh filename="package://meshes/m5_x_10mm_screw.stl"/>
      </geometry>
    </collision>
    <!-- Part m5_tee_nut_30 -->
    <visual>
      <origin xyz="1.68023 -3.99292 1.40652" rpy="3.14159 -5.12212e-15 -1.5708"/>
      <geometry>
        <mesh filename="package://meshes/m5_tee_nut.stl"/>
      </geometry>
      <material name="m5_tee_nut_30_material">
        <color rgba="0.792157 0.819608 0.933333 1"/>
      </material>
    </visual>
    <collision>
      <origin xyz="1.68023 -3.99292 1.40652" rpy="3.14159 -5.12212e-15 -1.5708"/>
      <geometry>
        <mesh filename="package://meshes/m5_tee_nut.stl"/>
      </geometry>
    </collision>
    <!-- Part m5_x_10mm_screw_30 -->
    <visual>
      <origin xyz="1.68953 -3.99292 1.40652" rpy="3.14159 -4.67109e-15 -1.5708"/>
      <geometry>
        <mesh filename="package://meshes/m5_x_10mm_screw.stl"/>
      </geometry>
      <material name="m5_x_10mm_screw_30_material">
        <color rgba="0.945098 0.94902 0.952941 1"/>
      </material>
    </visual>
    <collision>
      <origin xyz="1.68953 -3.99292 1.40652" rpy="3.14159 -4.67109e-15 -1.5708"/>
      <geometry>
        <mesh filename="package://meshes/m5_x_10mm_screw.stl"/>
      </geometry>
    </collision>
  </link>
</robot>
